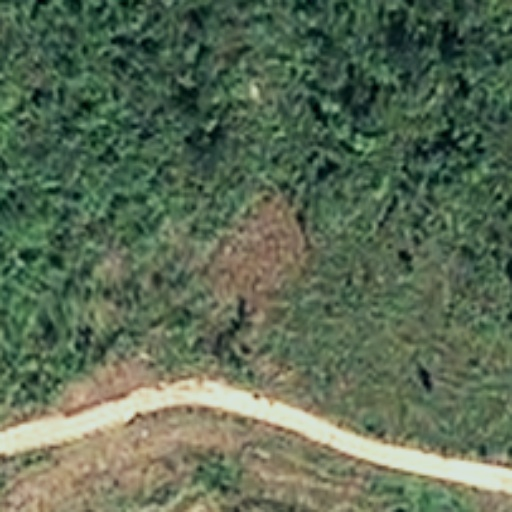landslide: (214, 194, 317, 298)
